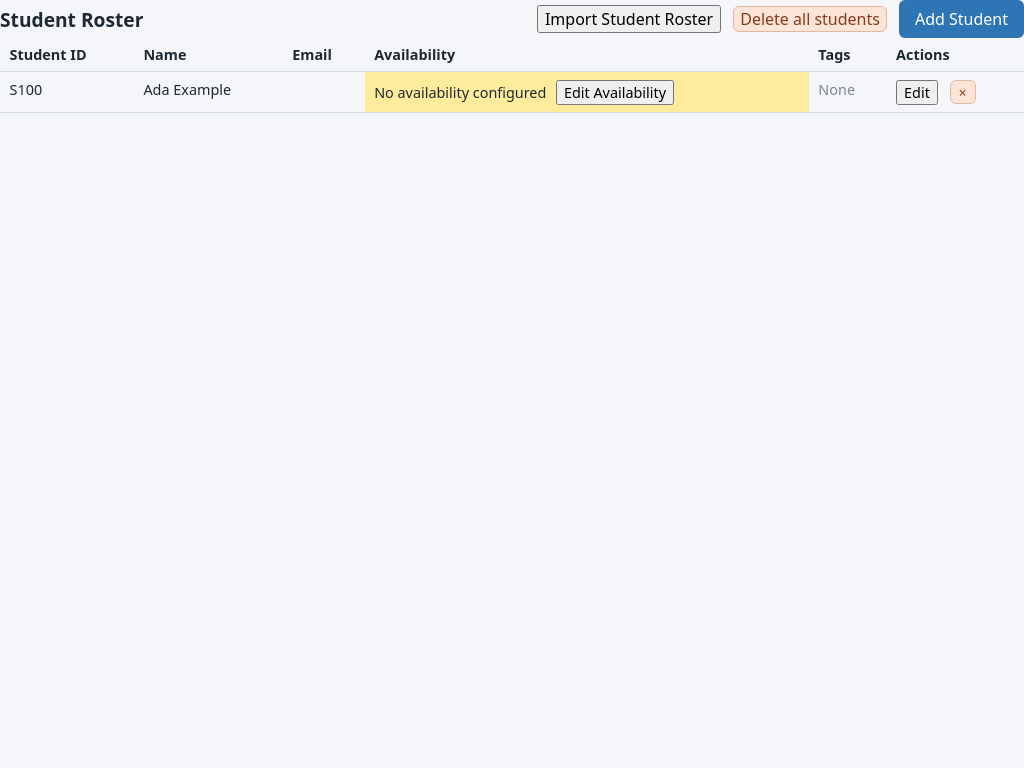
Test: Clinical student availability editing › disables Edit Availability for a student not yet saved
The width and height of the screenshot is (1024, 768).
Click the button "Add Student".
click(962, 19)  # box left=899, top=0, right=1023, bottom=38
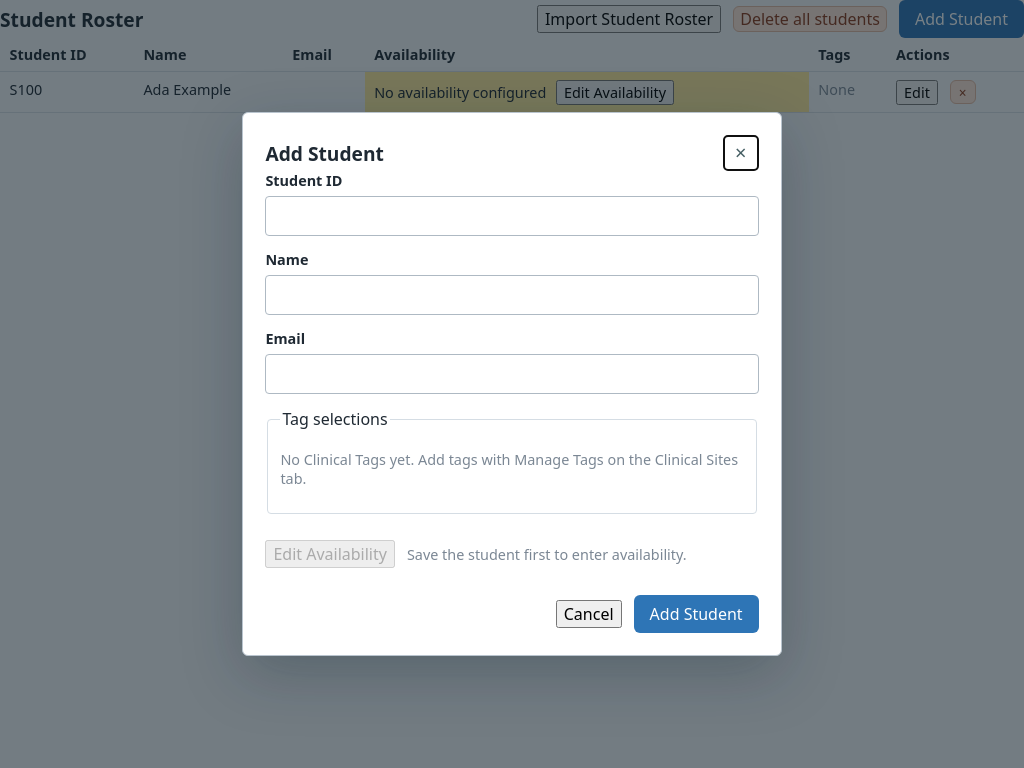
Check: the button "Edit Availability" is disabled, box left=265, top=540, right=395, bottom=568
